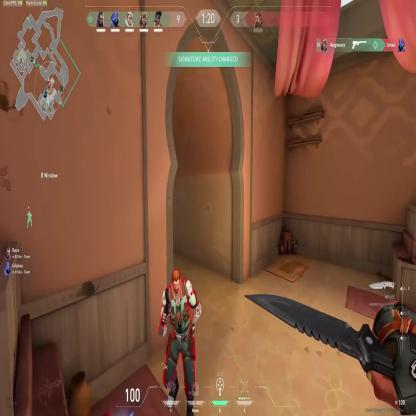enemy: (158, 268, 201, 413)
enemy_head: (170, 266, 182, 296)
